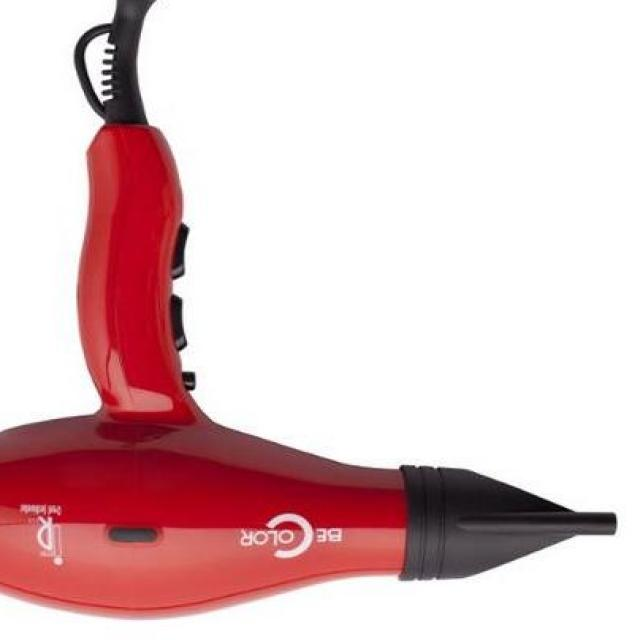dryer: (0, 0, 618, 626)
